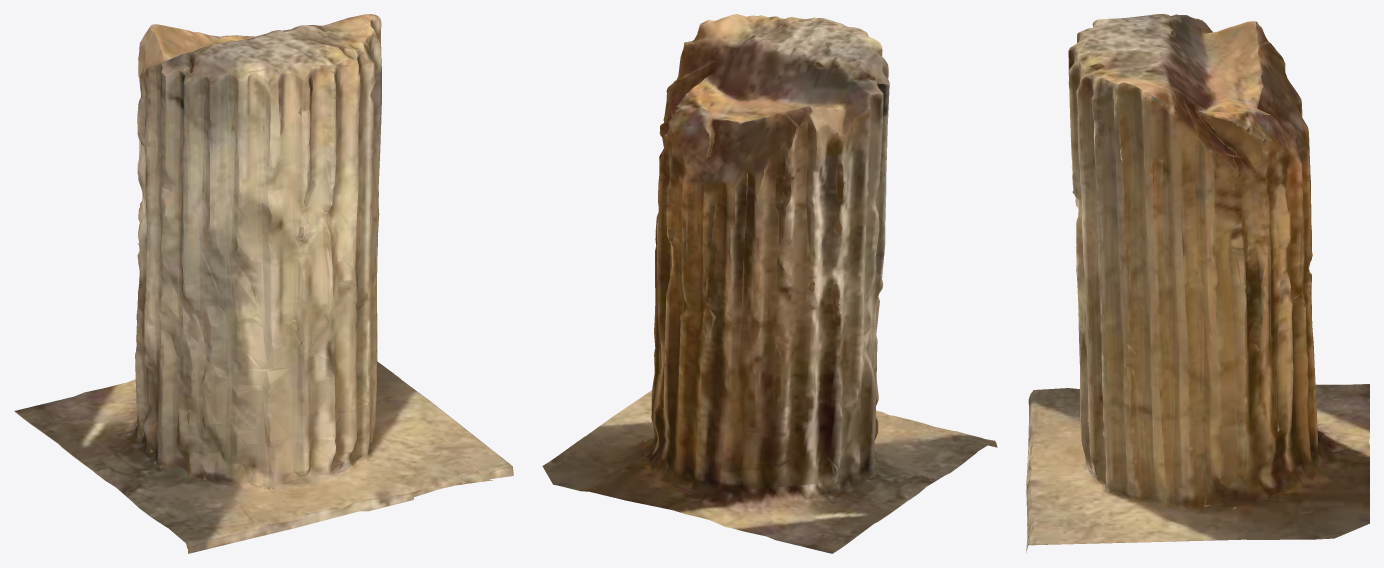
File: fluted-column-fragment.glb
3 renders of one model, left to right at view 1: azimuth 30°, elevation 25°; view 2: azimuth 150°, elevation 25°; view 3: azimuth 270°, elevation 25°, orthographic. The views are drawn at different scales.
Parts seen in each view (by area): view 1: Object_2; view 2: Object_2; view 3: Object_2.
Part boxes in pixels (bbox=[...]): Object_2: bbox=[14, 14, 513, 553]; Object_2: bbox=[542, 14, 997, 553]; Object_2: bbox=[1026, 14, 1369, 552].
Bounding box in the file's own units: 0.7228 × 0.9305 × 0.6777.
1 material, 1 textured.
